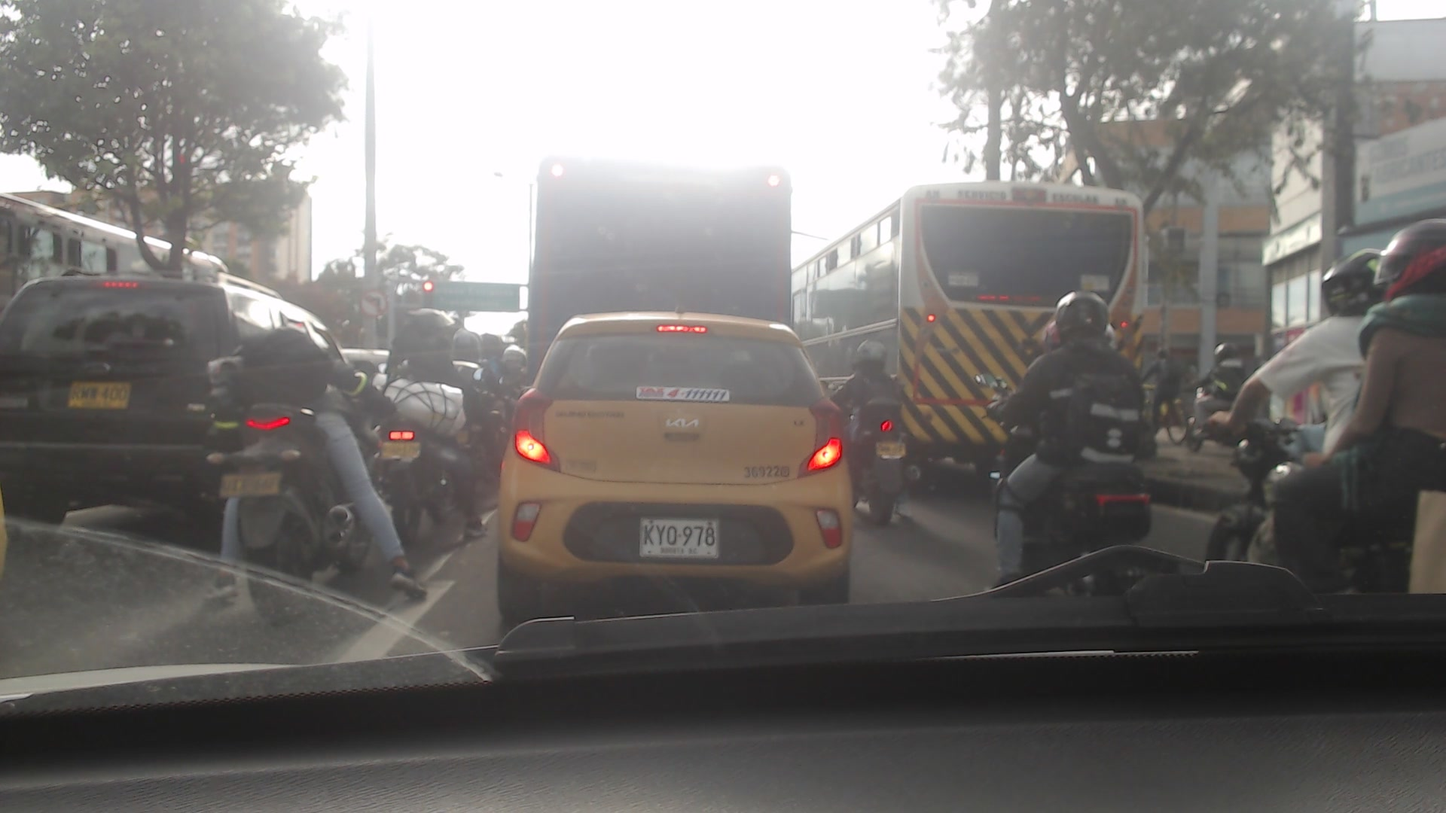bus: (781, 178, 1148, 473)
car: (498, 308, 859, 616), (0, 276, 355, 537)
motorcycle: (191, 413, 412, 609), (964, 449, 1163, 599), (366, 421, 488, 536), (840, 402, 924, 533)
person: (215, 327, 422, 599), (982, 286, 1181, 527), (386, 301, 487, 438), (830, 329, 921, 465)
truck: (524, 157, 812, 312)
